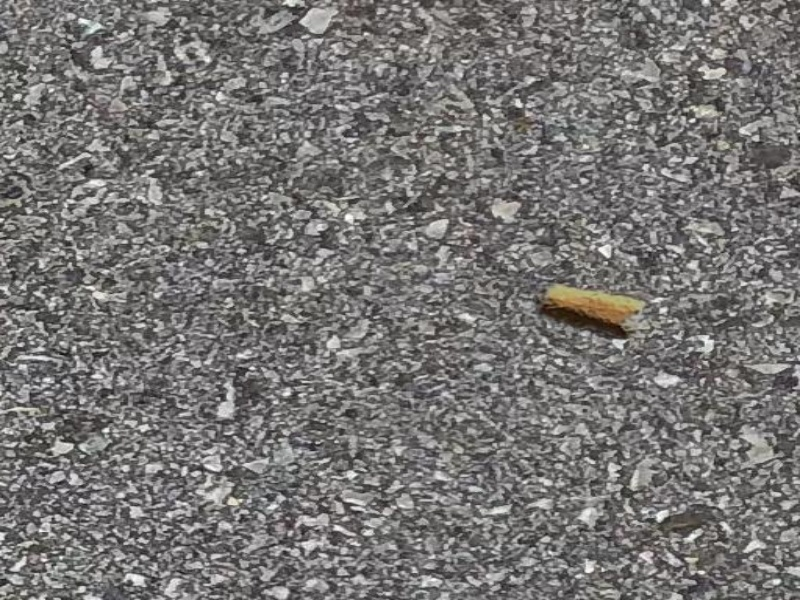cig: (537, 273, 648, 337)
